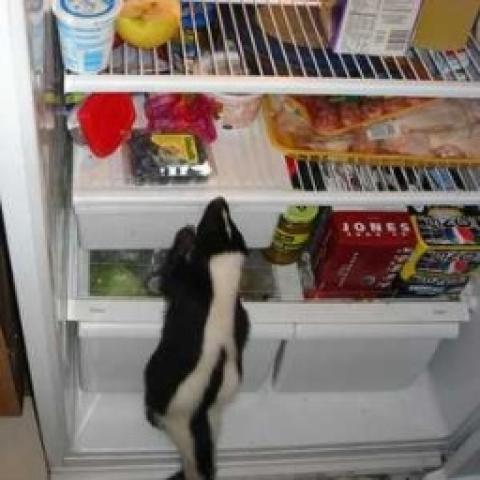small_animal: (131, 193, 251, 480)
